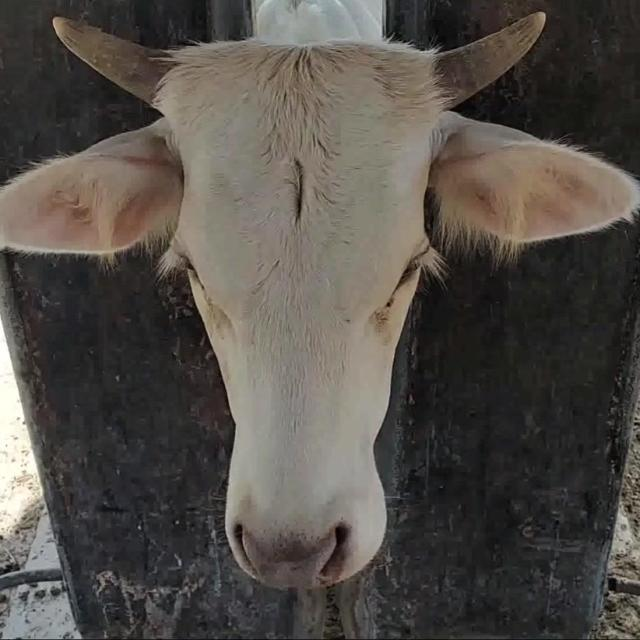cowFace: (161, 36, 430, 586)
